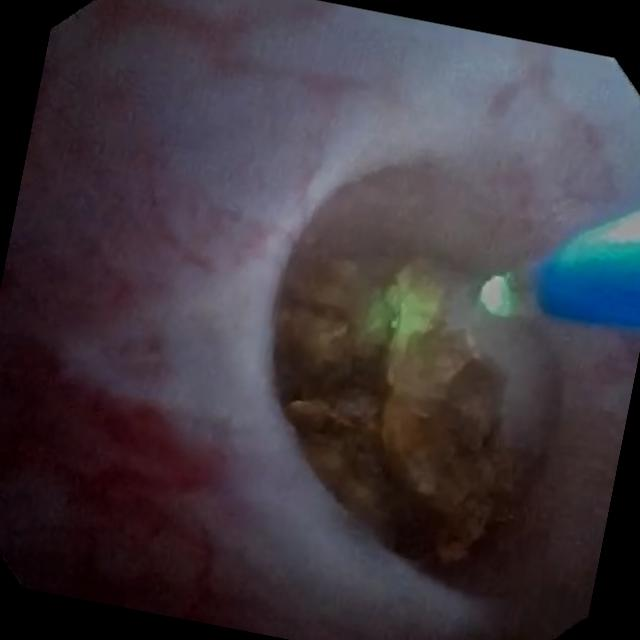laser-fibre: (485, 262, 543, 315)
laser_dot: (368, 278, 440, 346)
stone-new: (382, 263, 516, 559), (278, 289, 393, 531), (281, 306, 354, 375)
